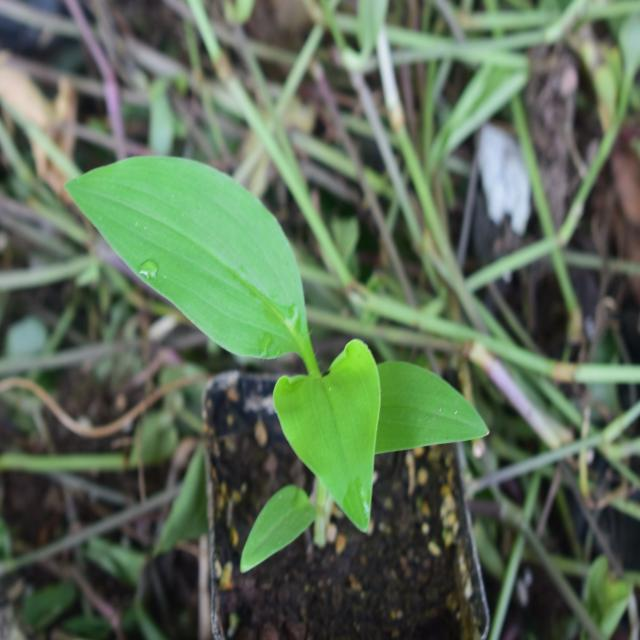Common Dayflower: (48, 150, 481, 523)
